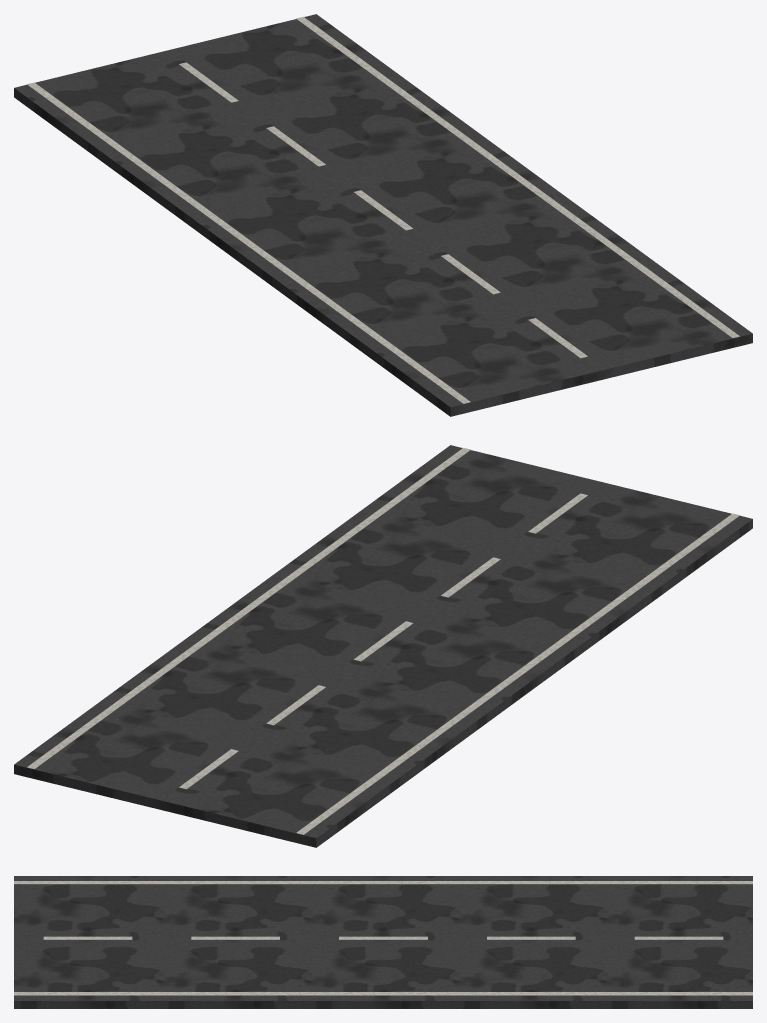
File: road.asphalt.straight.glb
3 views of the same model, one above another, from view 1: azimuth 30°, elevation 25°; view 2: azimuth 150°, elevation 25°; view 3: azimuth 270°, elevation 25° (orthographic). The views are drawn at different scales.
Visible parts, largest first — view 1: road.asphalt.straight; view 2: road.asphalt.straight; view 3: road.asphalt.straight.
Boxes of the visible parts, x1,y1,x2,y2 form: road.asphalt.straight: [14, 14, 752, 416]; road.asphalt.straight: [14, 445, 752, 847]; road.asphalt.straight: [14, 876, 752, 1008].
Bounding box in the file's own units: 4 × 0.126 × 10.
2 materials, 2 textured.
